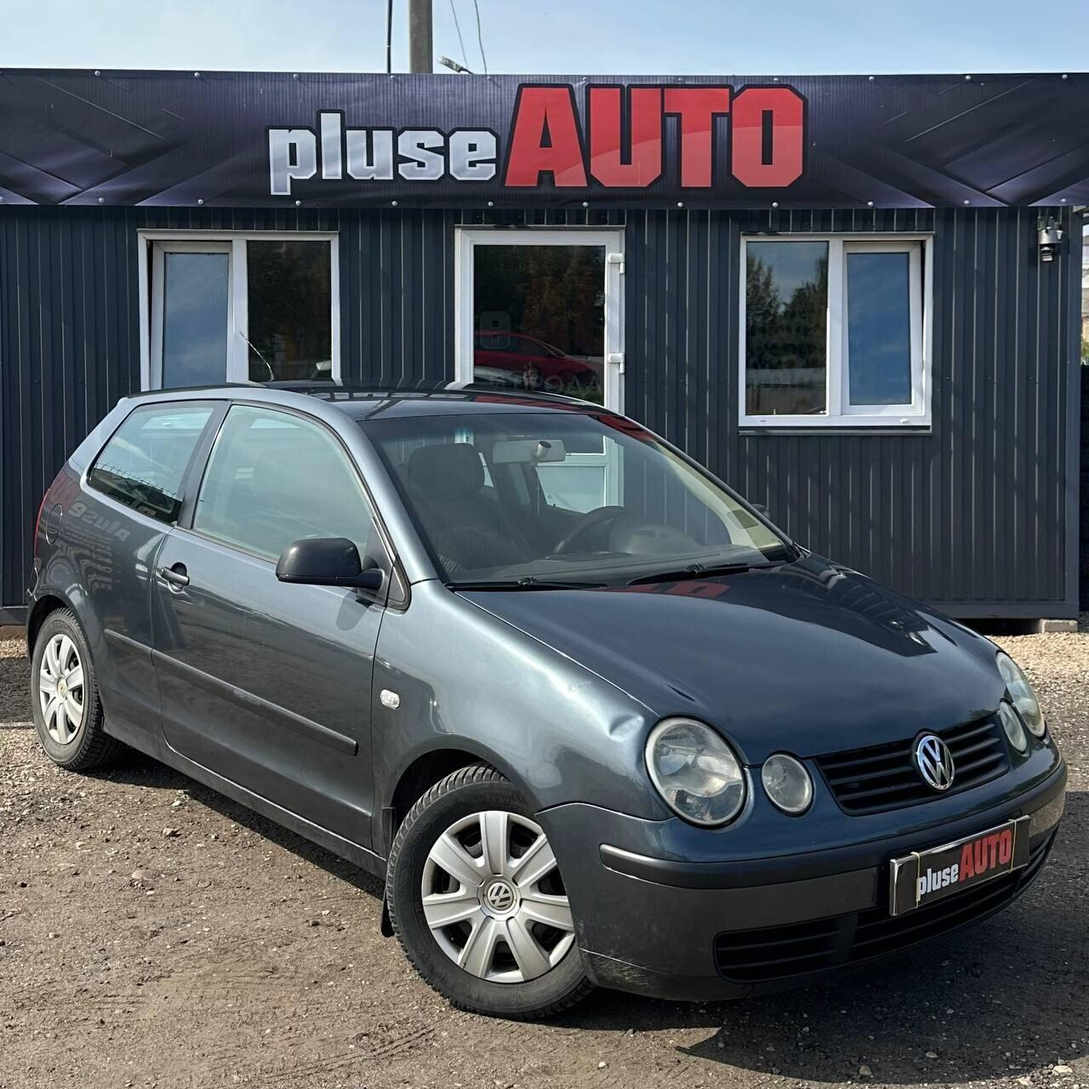Polo_2001-2005: (26, 371, 1065, 1045)
